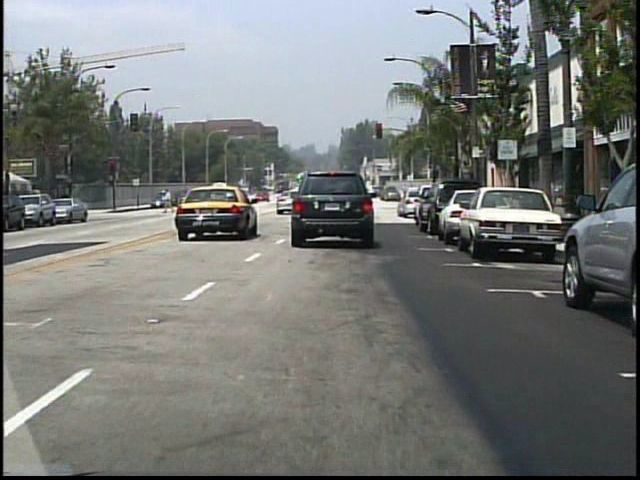person: (358, 186, 375, 217), (163, 188, 176, 214)
